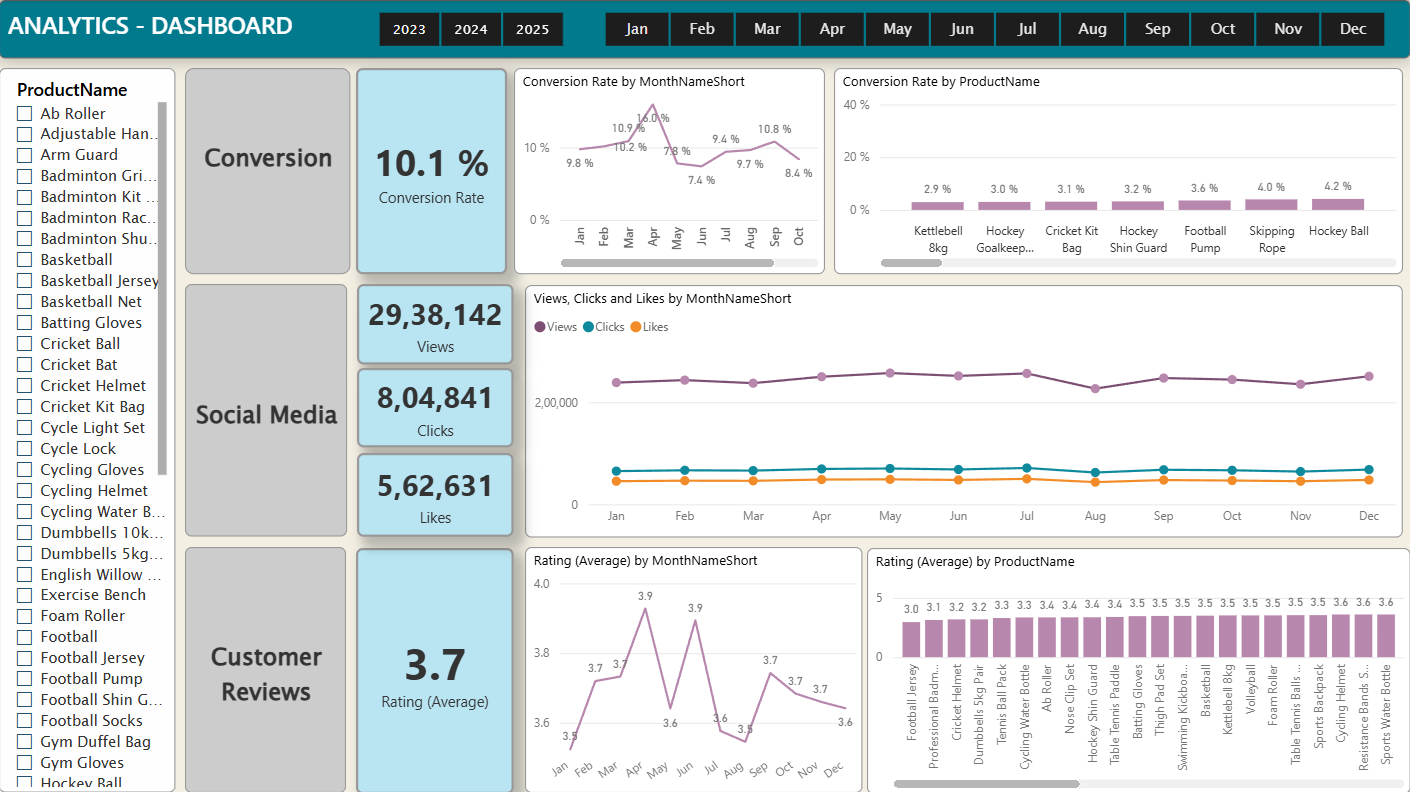

Layout of this report page (visuals, bound fields, positions):
{"tool":"powerbi","page":{"name":"Overview","canvas":[1280,720],"ordinal":0},"visuals":[{"type":"textbox","box":[0,0,1280.4,52.6],"z":0},{"type":"slicer","fields":{"Values":["dim_products.ProductName"]},"box":[0,61.7,159.6,658.3],"z":1000},{"type":"card","fields":{"Values":["_Calculations.Conversion Rate"]},"box":[323.7,61.7,136.9,186.8],"z":2000},{"type":"card","fields":{"Values":["_Calculations.Rating (Average)"]},"box":[323.7,496.9,143.3,224],"z":3000},{"type":"lineChart","fields":{"Y":["_Calculations.Conversion Rate"],"Category":["Calendar.MonthNameShort"]},"box":[467,61.7,282,186.8],"z":4000},{"type":"columnChart","fields":{"Category":["dim_products.ProductName"],"Y":["_Calculations.Conversion Rate"]},"box":[756.7,61.9,516.3,186.7],"z":5000},{"type":"slicer","fields":{"Values":["Calendar.Year"]},"box":[319.2,4.5,215.8,43.5],"z":6000},{"type":"slicer","fields":{"Values":["Calendar.MonthNameShort"]},"box":[524.1,4.5,756.3,43.5],"z":7000},{"type":"lineChart","fields":{"Y":["_Calculations.Views","_Calculations.Clicks","_Calculations.Likes"],"Category":["Calendar.MonthNameShort"]},"box":[477,258.4,796.2,228.5],"z":8000},{"type":"lineChart","fields":{"Category":["Calendar.MonthNameShort"],"Y":["_Calculations.Rating (Average)"]},"box":[477,496,305.6,224],"z":9000},{"type":"columnChart","fields":{"Category":["dim_products.ProductName"],"Y":["_Calculations.Rating (Average)"]},"box":[787.1,496.9,493.3,224],"z":10000},{"type":"card","fields":{"Values":["_Calculations.Views"]},"box":[324.6,257.5,142.4,72.5],"z":12000},{"type":"textbox","box":[168.7,61.7,149.6,186.8],"z":13000},{"type":"textbox","box":[168.5,257.7,146.6,229.5],"z":14000},{"type":"textbox","box":[168.5,496.3,145.7,224],"z":15000},{"type":"card","fields":{"Values":["_Calculations.Clicks"]},"box":[324.6,333.7,142.4,71.6],"z":16000},{"type":"card","fields":{"Values":["_Calculations.Likes"]},"box":[324.6,410.8,142.4,76.2],"z":17000}]}

Visuals, with their boxes in screenshot pixels (x1, y1, x2, y2), scaled from the page's 1280x720 canvas onto the 1410x792 screenshot:
textbox: left=0, top=0, right=1409, bottom=58
slicer - dim_products.ProductName: left=0, top=68, right=176, bottom=791
card - _Calculations.Conversion Rate: left=357, top=68, right=507, bottom=273
card - _Calculations.Rating (Average): left=357, top=547, right=514, bottom=791
lineChart - _Calculations.Conversion Rate x Calendar.MonthNameShort: left=514, top=68, right=825, bottom=273
columnChart - dim_products.ProductName x _Calculations.Conversion Rate: left=834, top=68, right=1402, bottom=273
slicer - Calendar.Year: left=352, top=5, right=589, bottom=53
slicer - Calendar.MonthNameShort: left=577, top=5, right=1409, bottom=53
lineChart - _Calculations.Views x _Calculations.Clicks: left=525, top=284, right=1403, bottom=536
lineChart - Calendar.MonthNameShort x _Calculations.Rating (Average): left=525, top=546, right=862, bottom=791
columnChart - dim_products.ProductName x _Calculations.Rating (Average): left=867, top=547, right=1409, bottom=791
card - _Calculations.Views: left=358, top=283, right=514, bottom=363
textbox: left=186, top=68, right=351, bottom=273
textbox: left=186, top=283, right=347, bottom=536
textbox: left=186, top=546, right=346, bottom=791
card - _Calculations.Clicks: left=358, top=367, right=514, bottom=446
card - _Calculations.Likes: left=358, top=452, right=514, bottom=536
